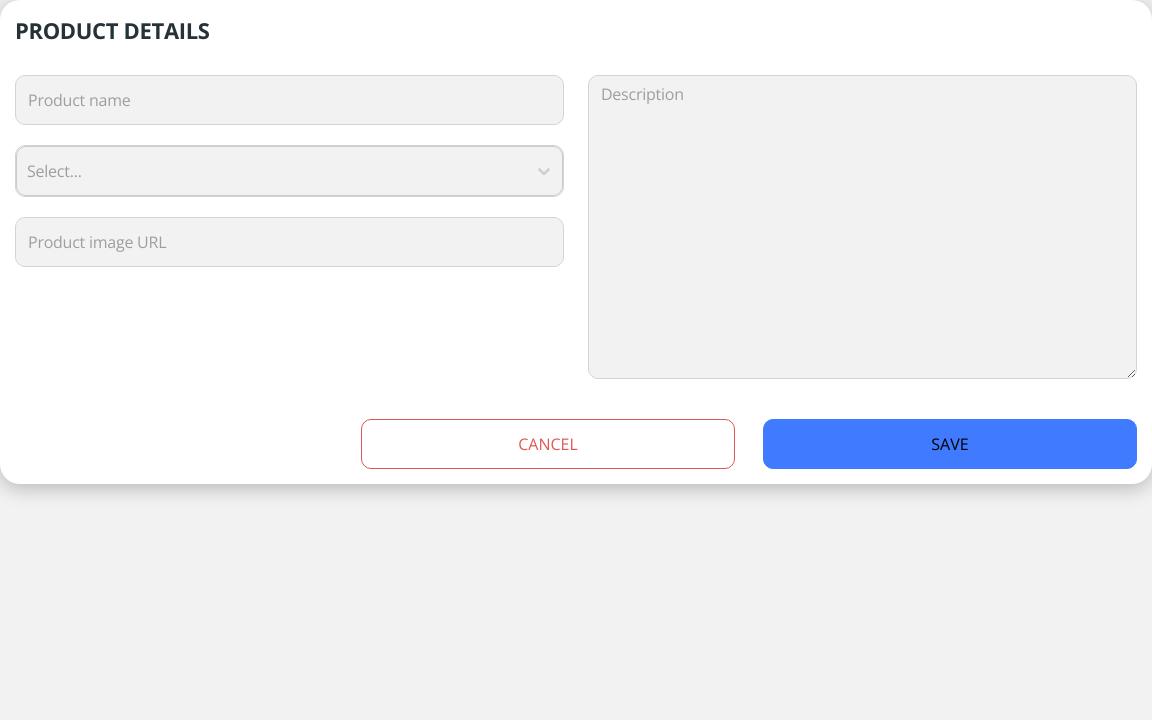
Test case: Product Crud Form creation tests › should show 5 validation messages when just clicking submit
Click the button "Save".
click(950, 444)  # box [763, 419, 1137, 469]
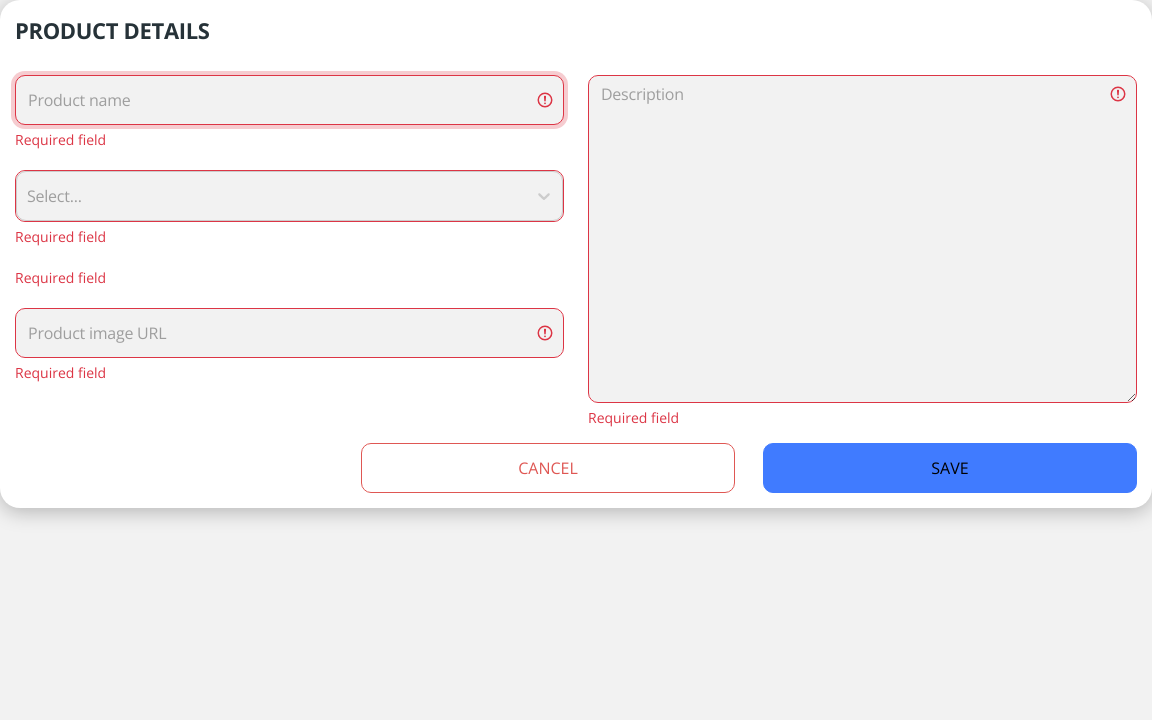
Now the text "Required field" is shown 5 times, box [15, 130, 106, 149]; [15, 227, 106, 246]; [15, 268, 106, 287]; [15, 363, 106, 382]; [588, 408, 679, 427]
